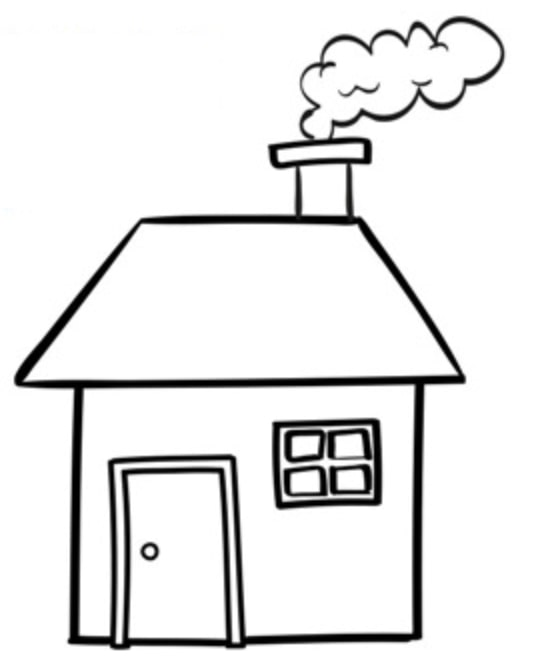House: (10, 113, 473, 655)
